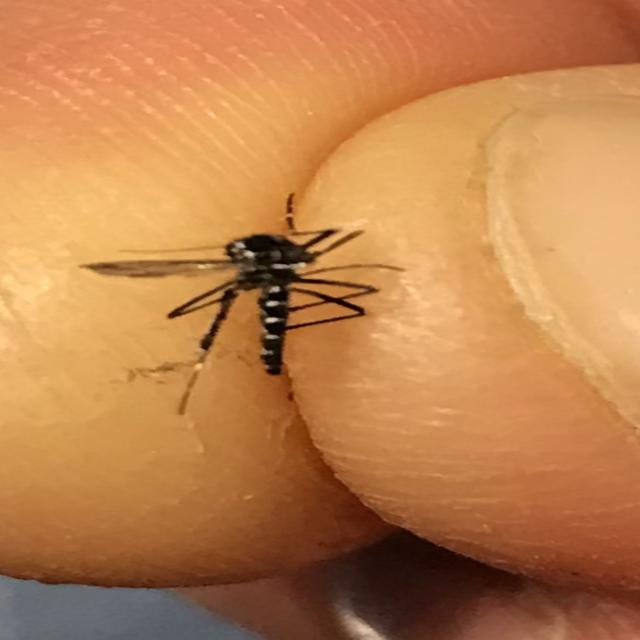albopictus: (88, 176, 430, 448)
